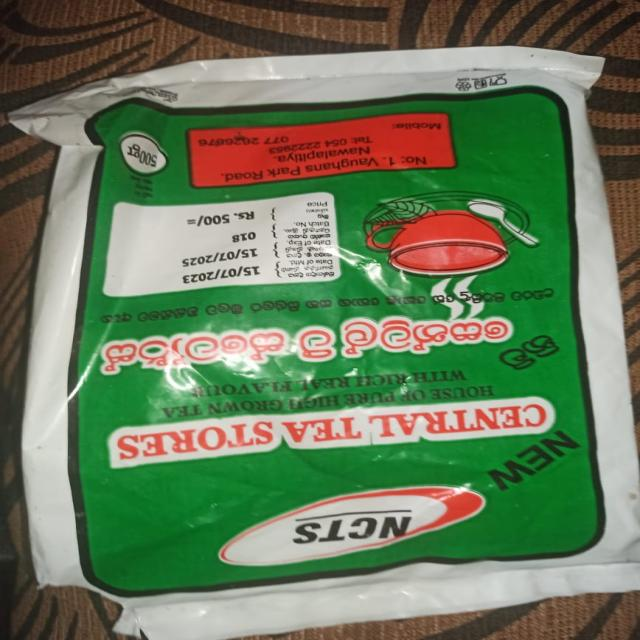Central Tea: (0, 65, 640, 594)
